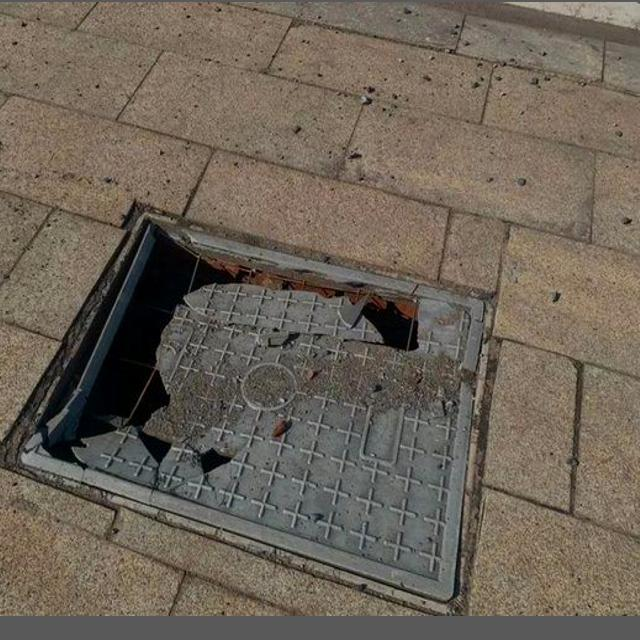broke: (0, 190, 486, 614)
